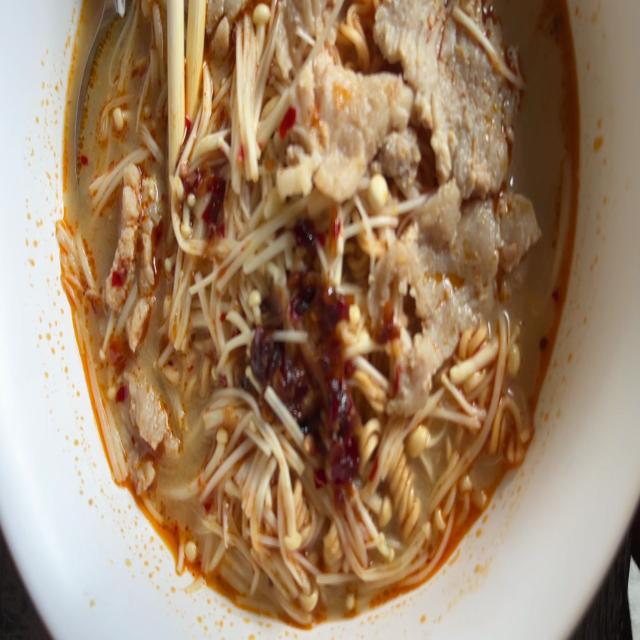noodle: (58, 0, 585, 632)
